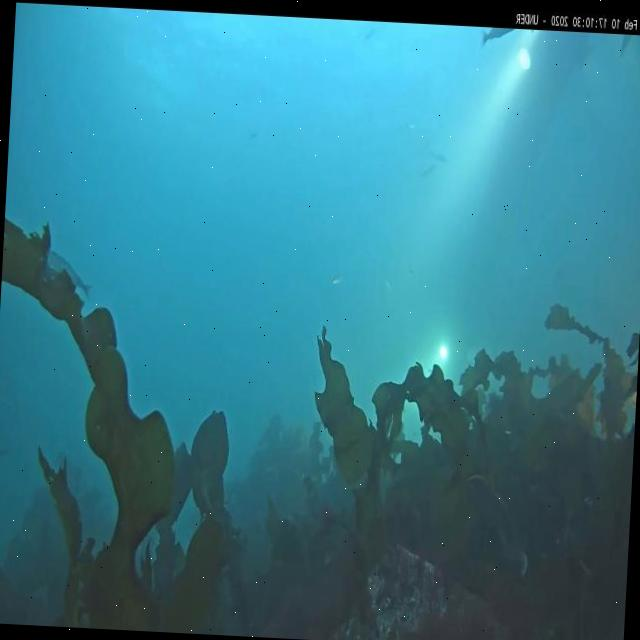fish: (480, 27, 516, 51)
